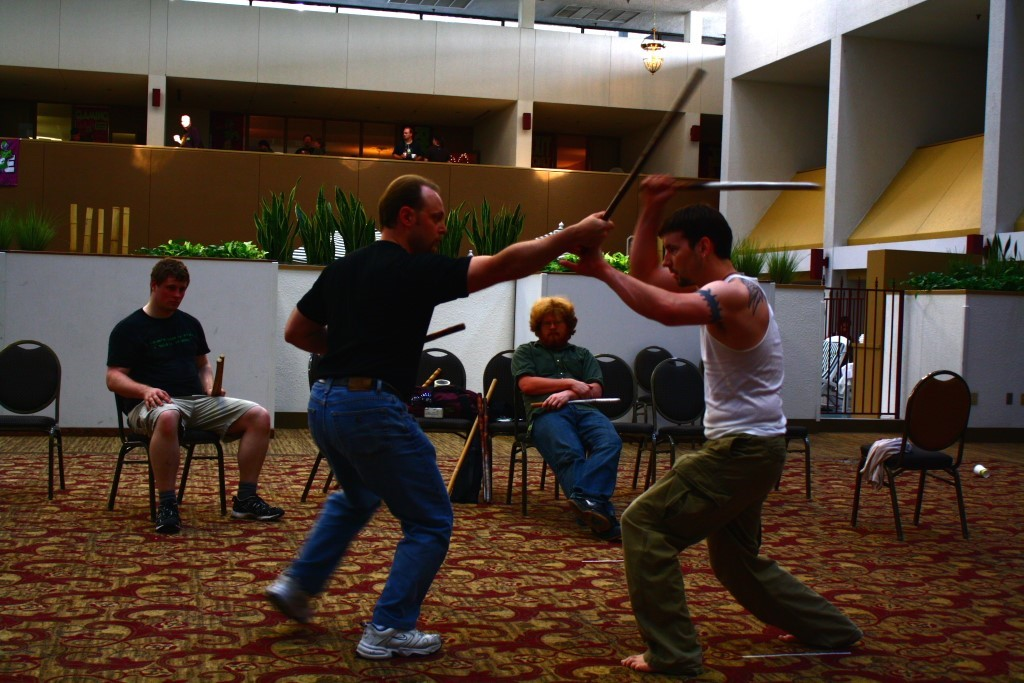baston_e: (612, 69, 696, 224), (445, 382, 497, 491), (654, 179, 812, 194), (424, 321, 460, 343), (210, 362, 222, 395), (215, 358, 224, 394)
baston_v: (806, 178, 823, 194), (692, 63, 710, 78), (457, 318, 471, 331), (489, 374, 502, 384), (434, 363, 445, 373), (218, 353, 228, 362), (528, 400, 538, 408), (613, 395, 624, 402), (212, 358, 223, 364)
